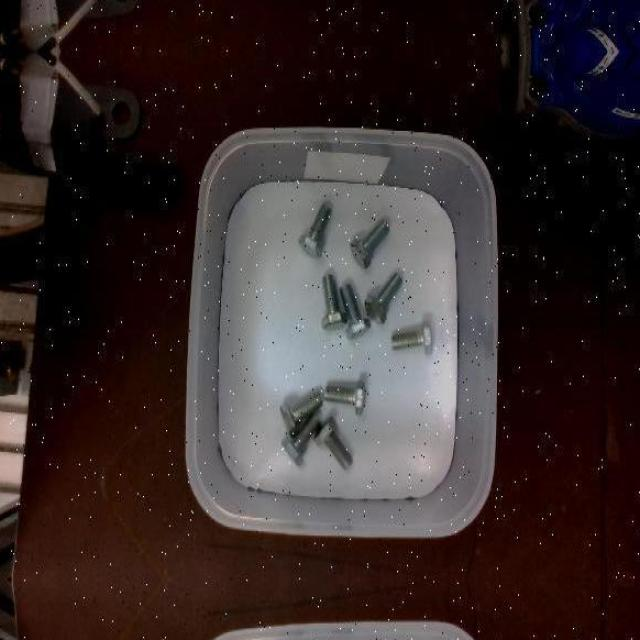screw: (314, 416, 353, 469), (280, 414, 318, 468), (364, 270, 402, 322), (298, 202, 332, 258), (280, 392, 322, 437), (350, 220, 389, 268), (338, 282, 369, 340), (320, 273, 346, 330), (392, 319, 434, 354), (326, 380, 366, 414)
